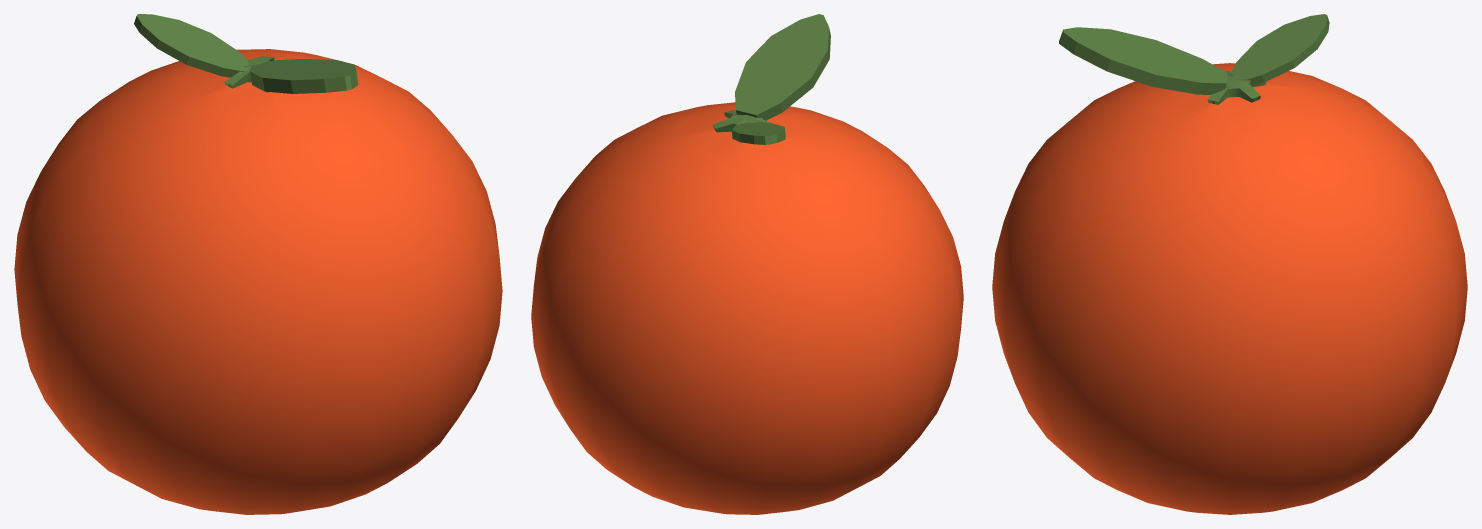
The model's file is Orange.fbx.
The picture shows the model from 3 angles, left to right: view 1: azimuth 30°, elevation 25°; view 2: azimuth 150°, elevation 25°; view 3: azimuth 270°, elevation 25°; orthographic projection. The views are drawn at different scales.
Parts seen in each view (by area): view 1: FORK:FORK:polySurface2; view 2: FORK:FORK:polySurface2; view 3: FORK:FORK:polySurface2.
Part boxes in pixels (x1=…): FORK:FORK:polySurface2: x1=14, y1=14, x2=502, y2=514; FORK:FORK:polySurface2: x1=531, y1=14, x2=963, y2=514; FORK:FORK:polySurface2: x1=992, y1=14, x2=1467, y2=514.
Size of the model in its own units: 13.22 by 14 by 13.22.
